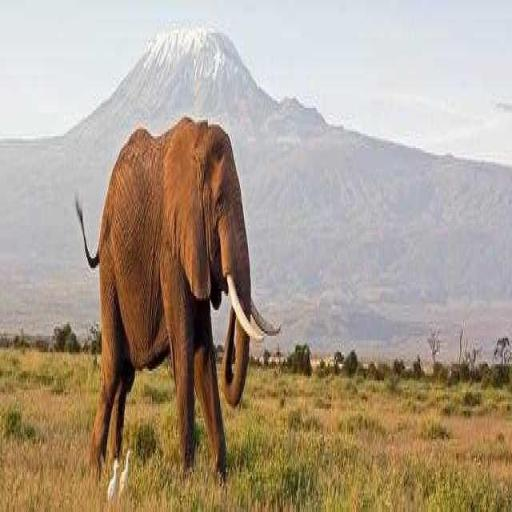Elephant: (74, 115, 282, 491)
